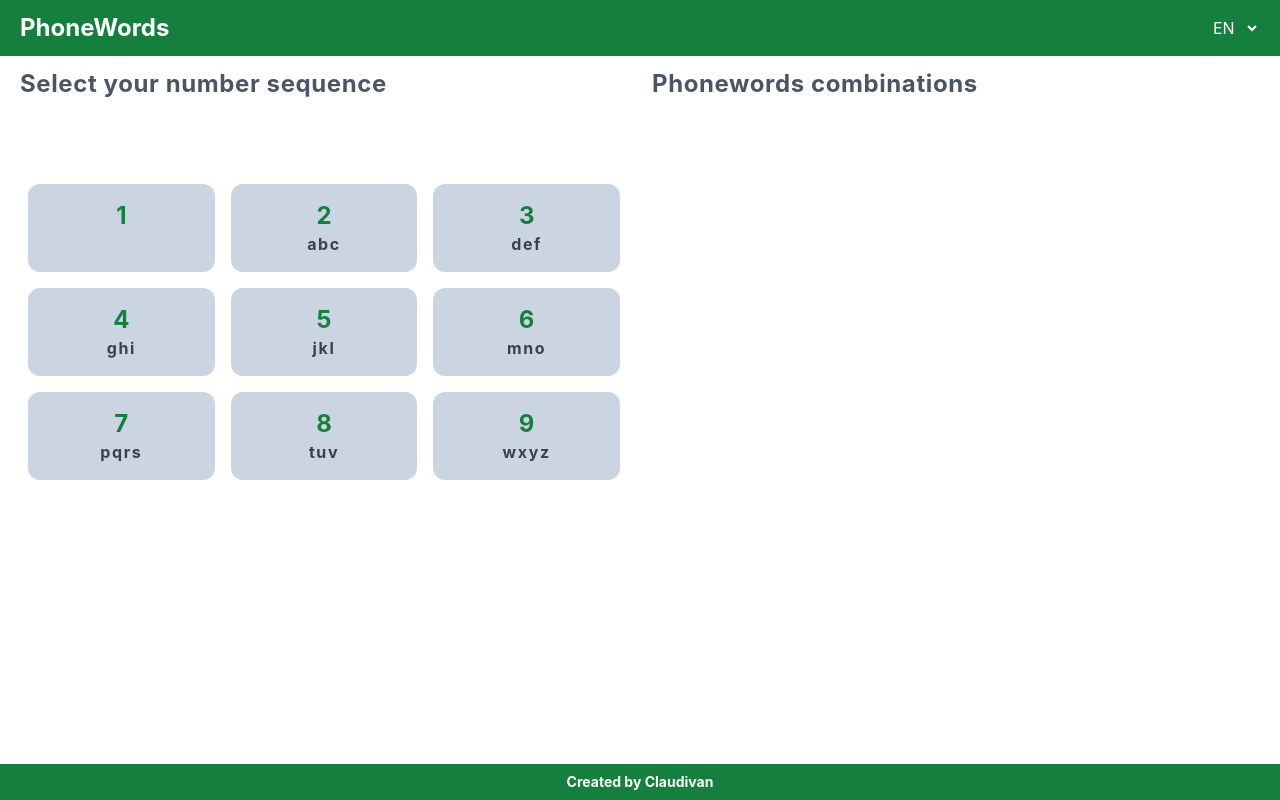
Test: Test Initial Page › should the results from the api appear when a digit is clicked
The width and height of the screenshot is (1280, 800).
Step 1. Click the button with test id "digit-button-2" → (324, 228), box top-left (231, 184), bottom-right (417, 272)
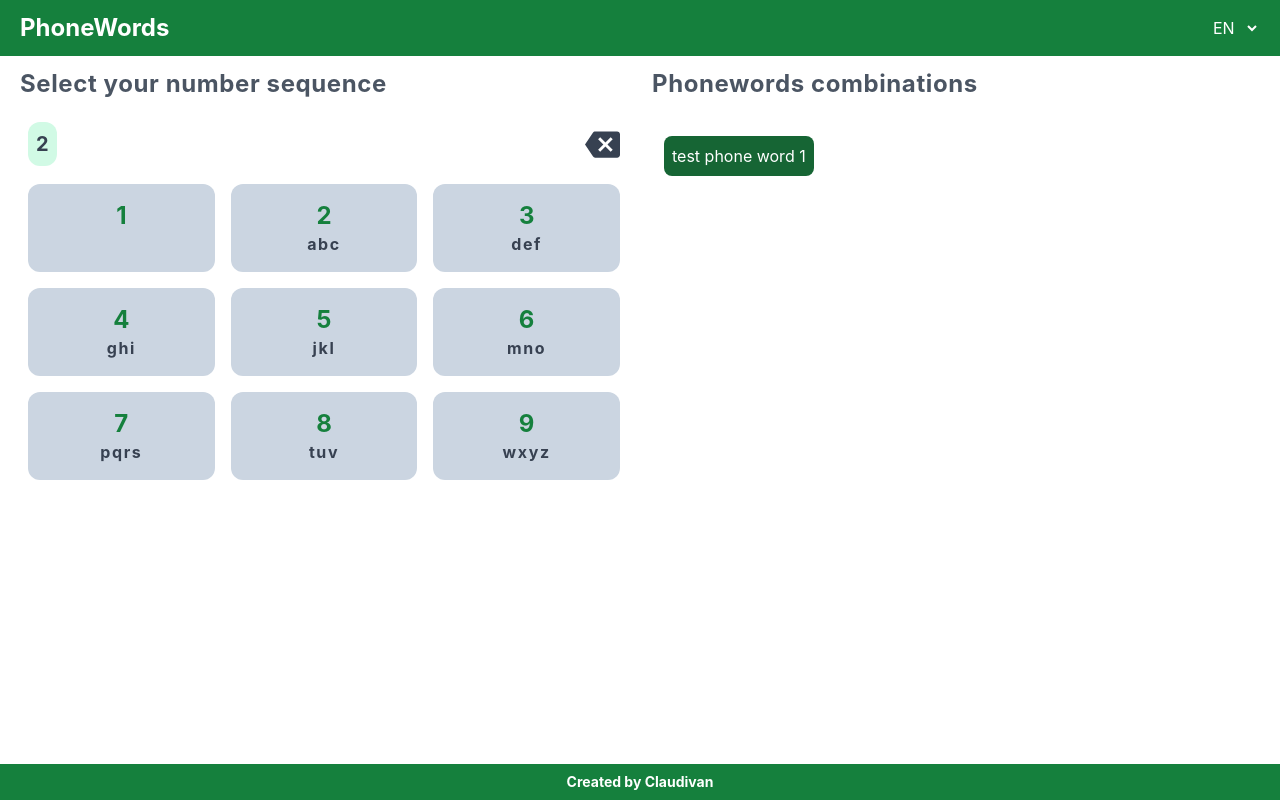
Expected: the text "test phone word 1" is shown, top-left (664, 136), bottom-right (814, 176)
